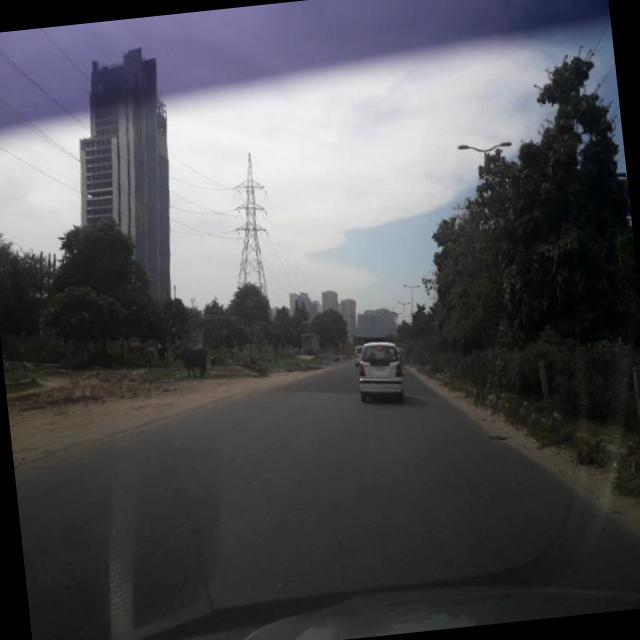pothole: (39, 466, 246, 640), (260, 429, 338, 534)
